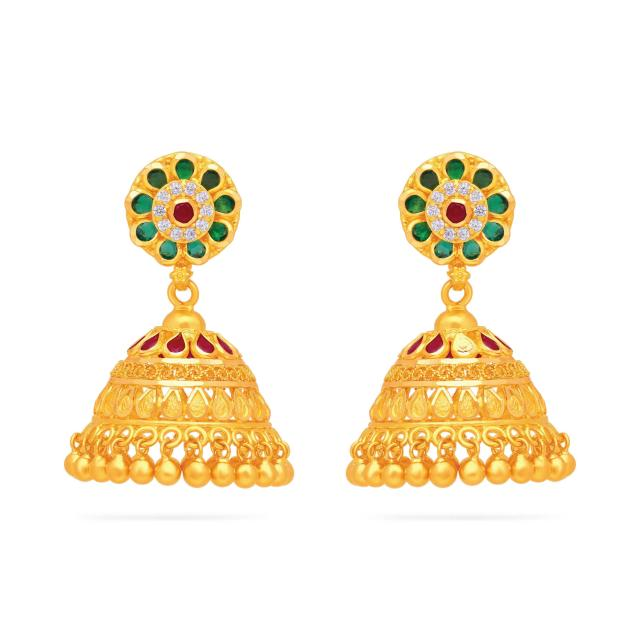missing gem: (455, 333, 472, 352)
